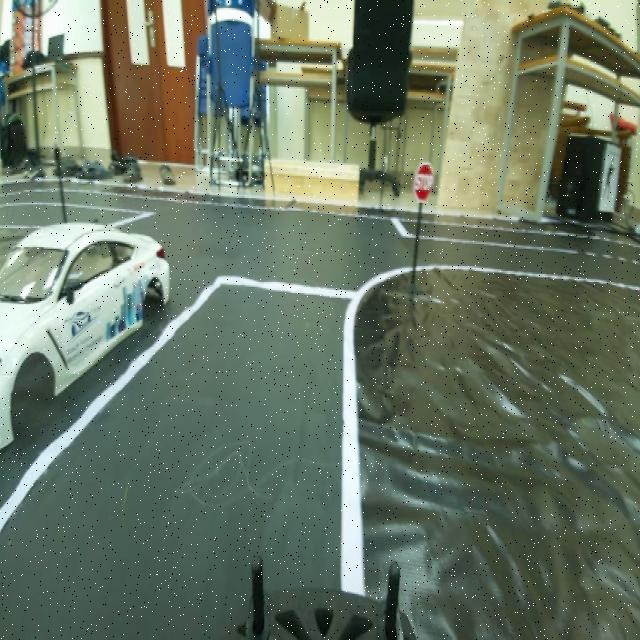car: (2, 218, 188, 412)
stop: (412, 154, 438, 210)
